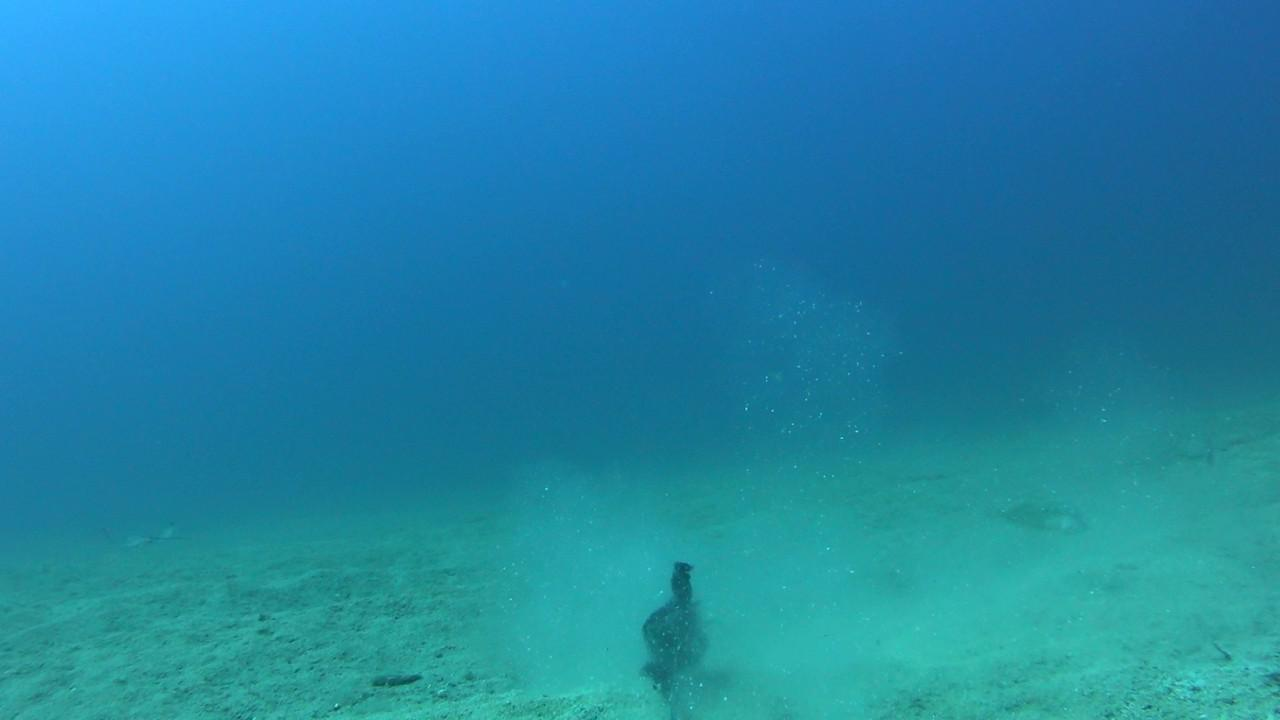myliobatis: (110, 510, 225, 556)
